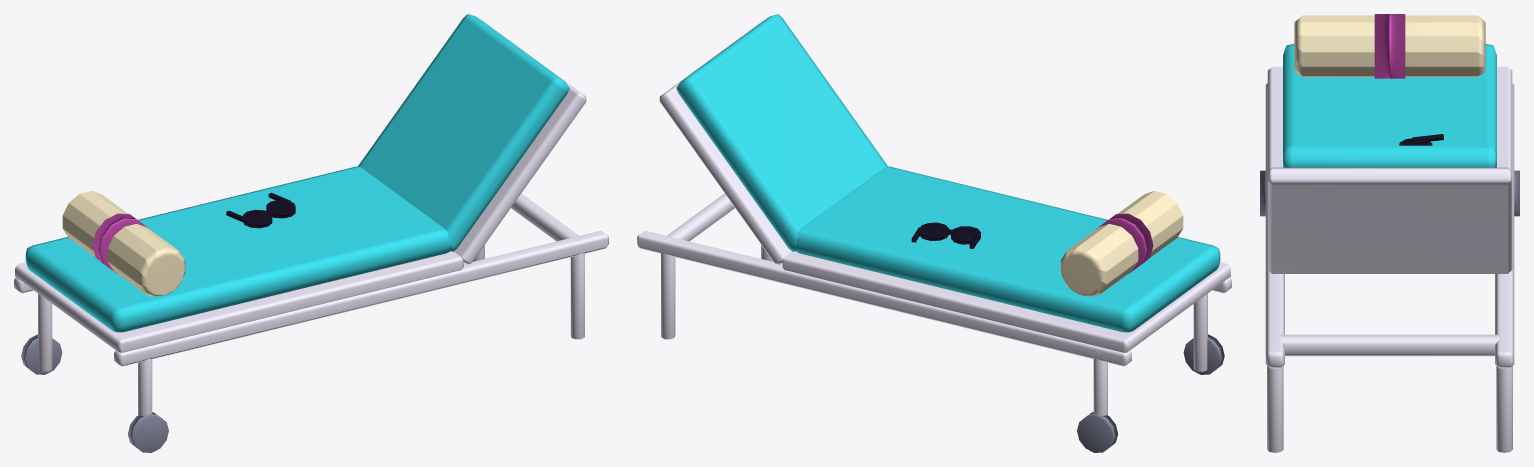
Rendered from lounge_chair.glb.
The picture shows the model from 3 angles, left to right: view 1: azimuth 30°, elevation 25°; view 2: azimuth 150°, elevation 25°; view 3: azimuth 270°, elevation 25°; orthographic projection. The views are drawn at different scales.
Parts seen in each view (by area): view 1: Lounger; view 2: Lounger; view 3: Lounger.
Boxes of the visible parts, x1,y1,x2,y2 form: Lounger: (14,14,608,452); Lounger: (637,14,1231,452); Lounger: (1260,14,1519,452).
Size of the model in its own units: 1.7 by 0.873 by 0.68.
